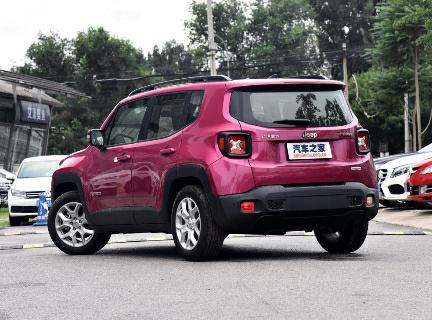Jeep-自由侠: (45, 69, 386, 269)
